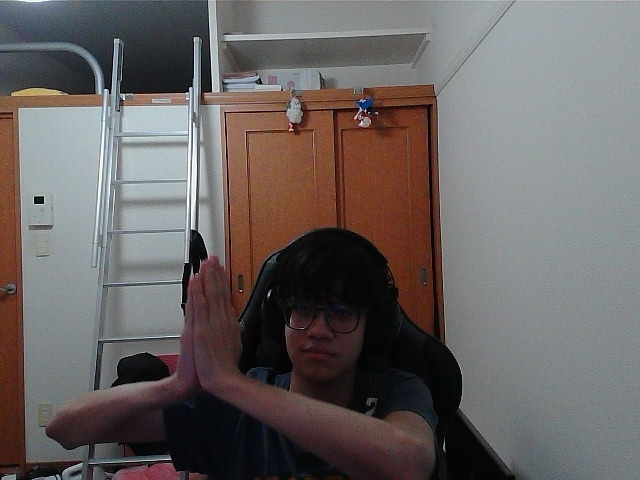pray: (202, 259, 224, 363)
